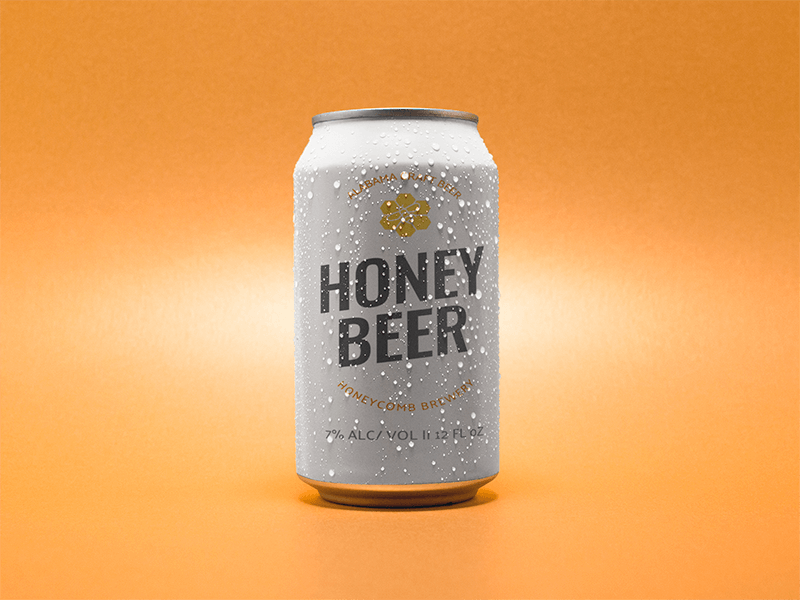beer can: (296, 108, 501, 514)
